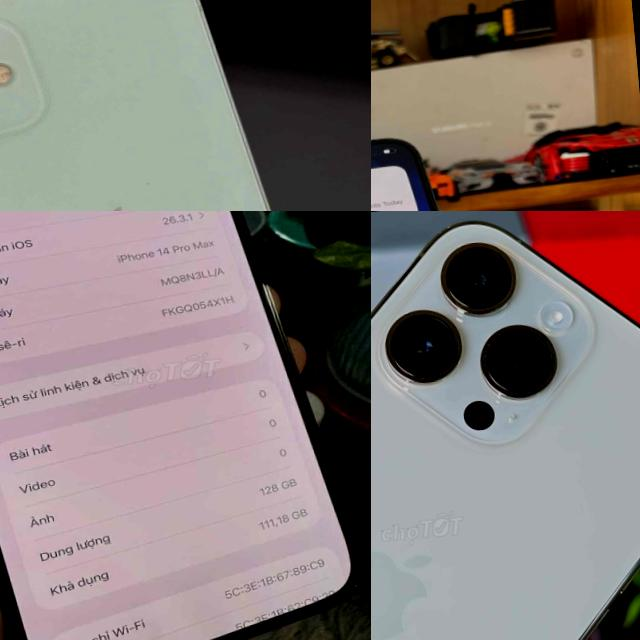gen_12_13: (0, 0, 350, 211), (371, 123, 519, 211)
gen_14: (0, 211, 371, 640), (371, 211, 640, 640)
